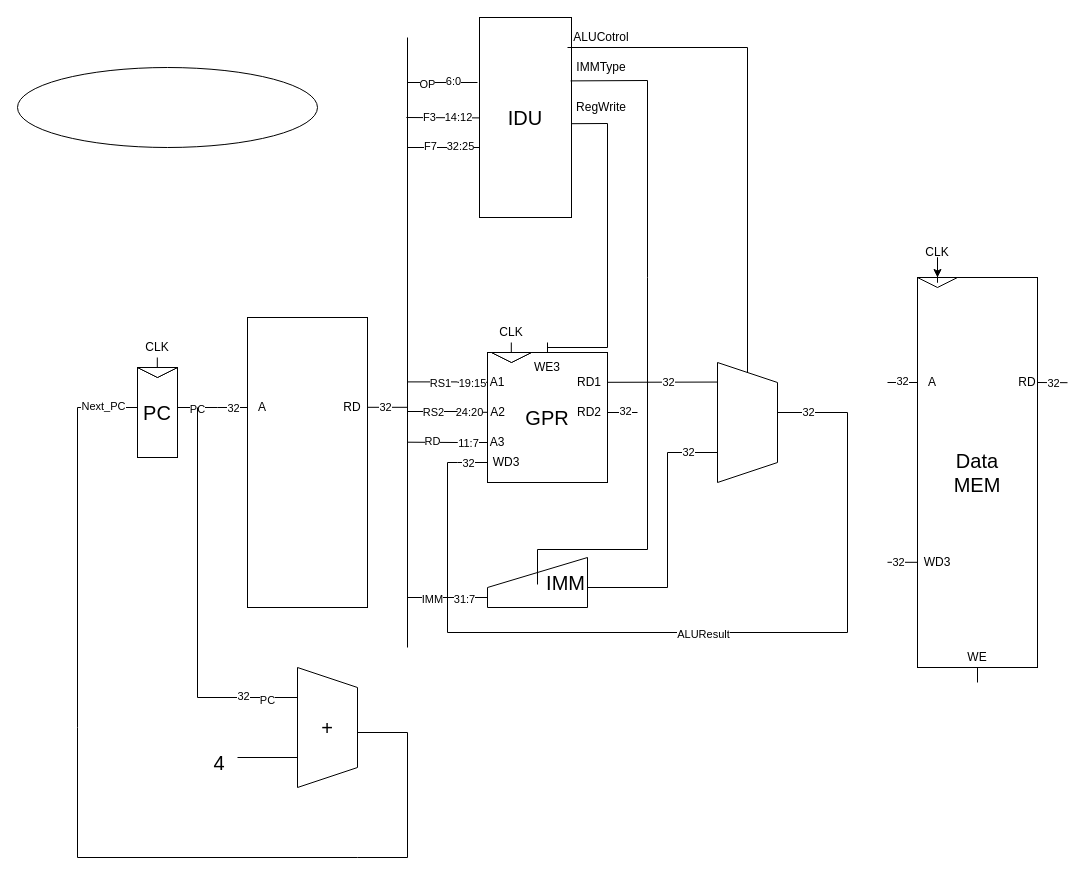
Image size: 1086x876. Some labels were removed from this diagram. Here are the shapes that lost their labels. From the top down, the box of each, then its label:
(16, 66, 318, 148): ysyx_23060171_yzs CPU3.0
(716, 362, 778, 482): ALU
(246, 316, 368, 608): Inst MEM
